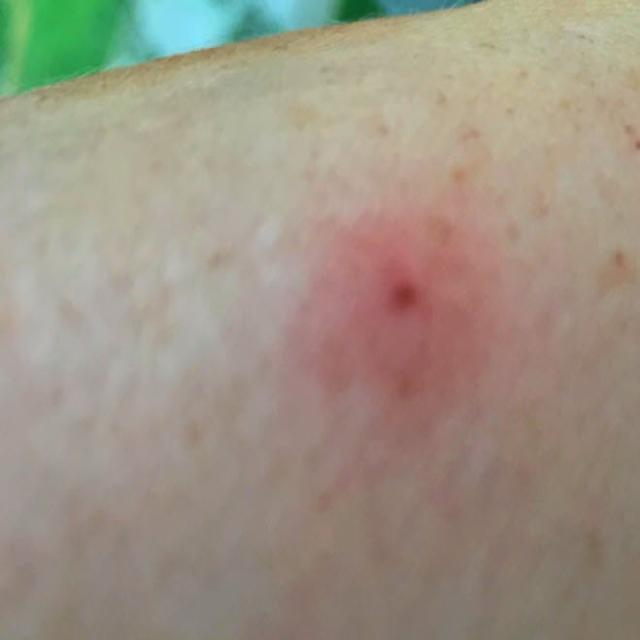sinek: (337, 235, 473, 392)
